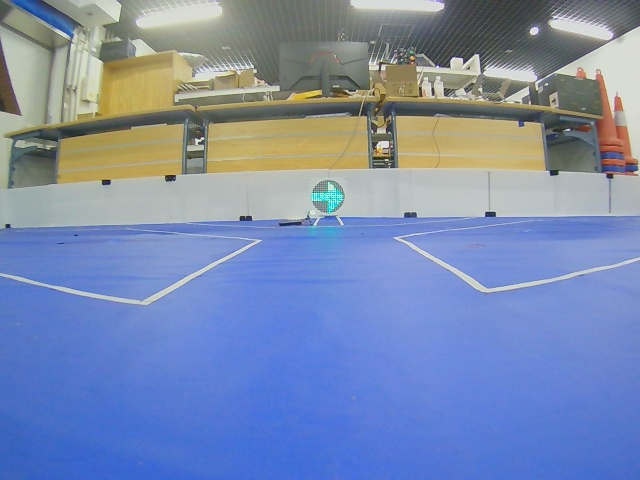right_green: (311, 180, 345, 214)
